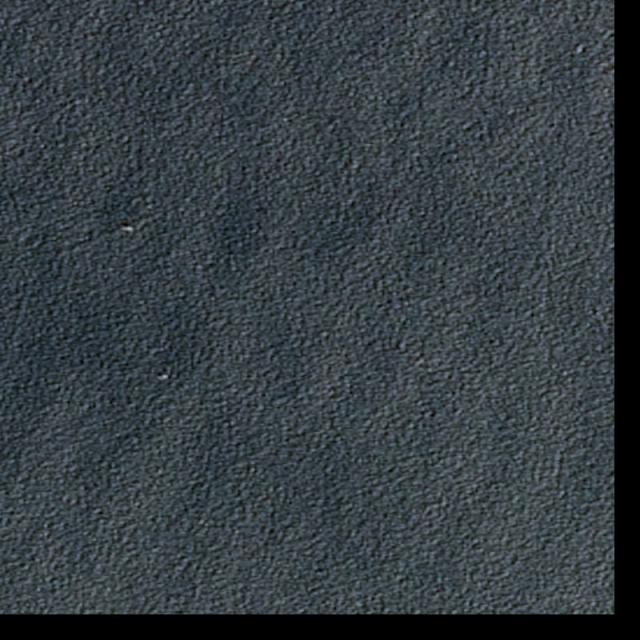ship: (156, 374, 170, 383)
